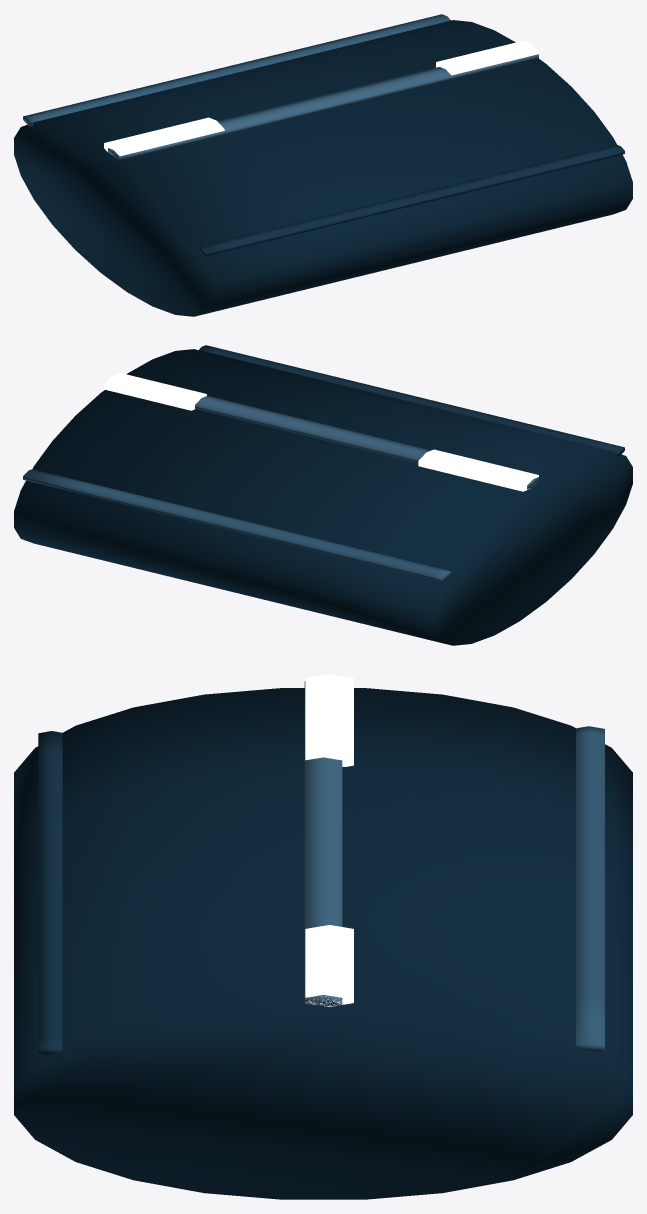
The model's file is newshs-7.glb.
3 views of the same model, one above another, from view 1: azimuth 30°, elevation 25°; view 2: azimuth 150°, elevation 25°; view 3: azimuth 270°, elevation 25° (orthographic). The views are drawn at different scales.
Visible parts, largest first — view 1: newshs-7; view 2: newshs-7; view 3: newshs-7.
Boxes of the visible parts, x1=… form: newshs-7: x1=14, y1=14, x2=632, y2=316; newshs-7: x1=14, y1=345, x2=632, y2=645; newshs-7: x1=14, y1=674, x2=632, y2=1199.
Bounding box in the file's own units: 2 × 0.6155 × 1.65.
